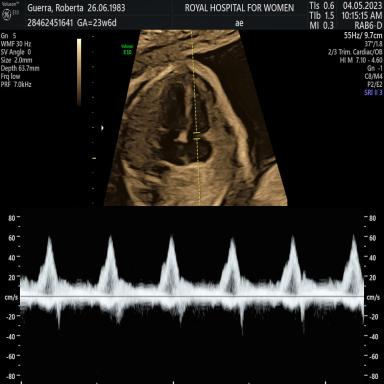Ultrasound-Waves: (25, 215, 364, 384)
